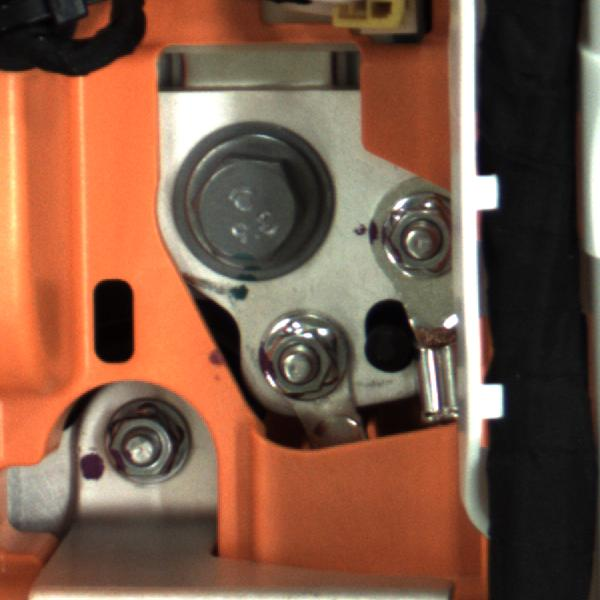nut_b: (165, 119, 345, 289)
screw_s: (253, 308, 367, 403), (97, 395, 207, 492), (372, 183, 472, 281)
